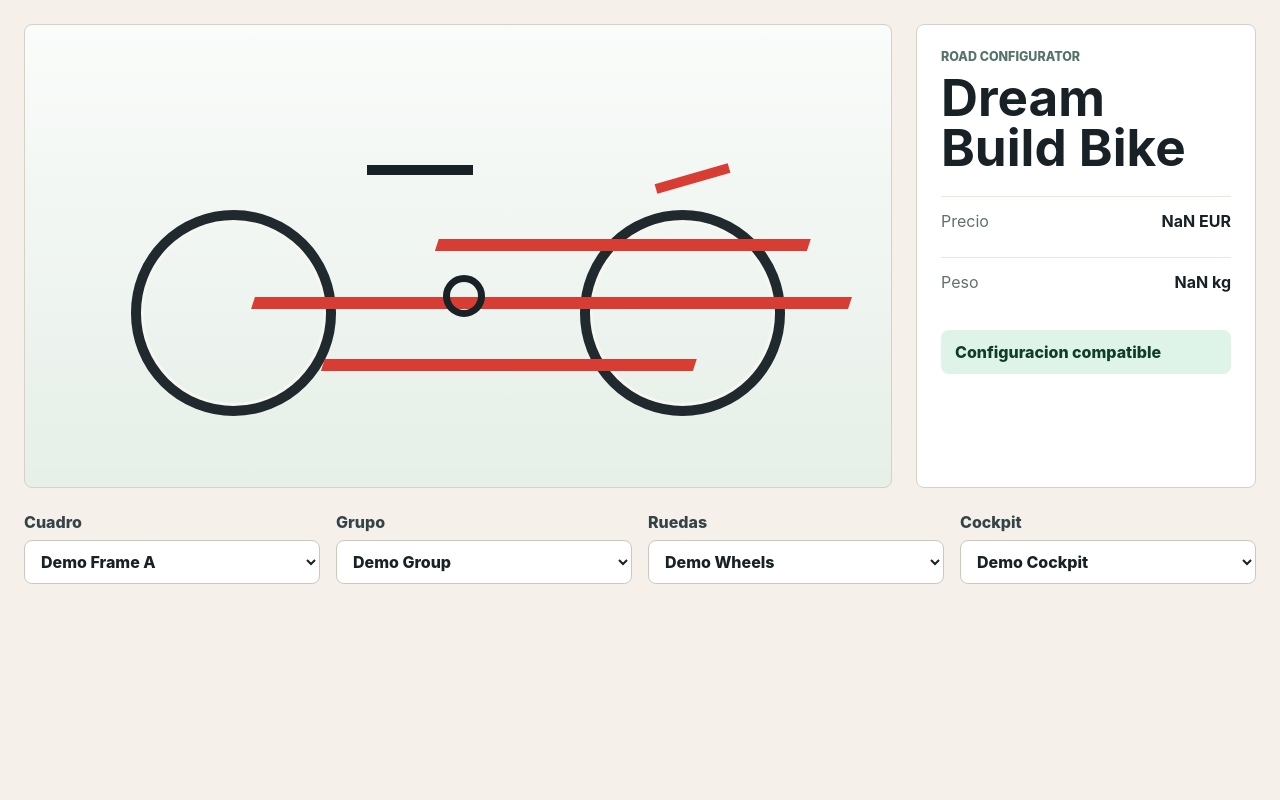
App request behavior › does not show a previous validation as current after a new request fails
The width and height of the screenshot is (1280, 800).
Select "Demo Frame B" in the dropdown labelled "Cuadro". click: (172, 562)
box: x1=24 y1=540 x2=320 y2=584
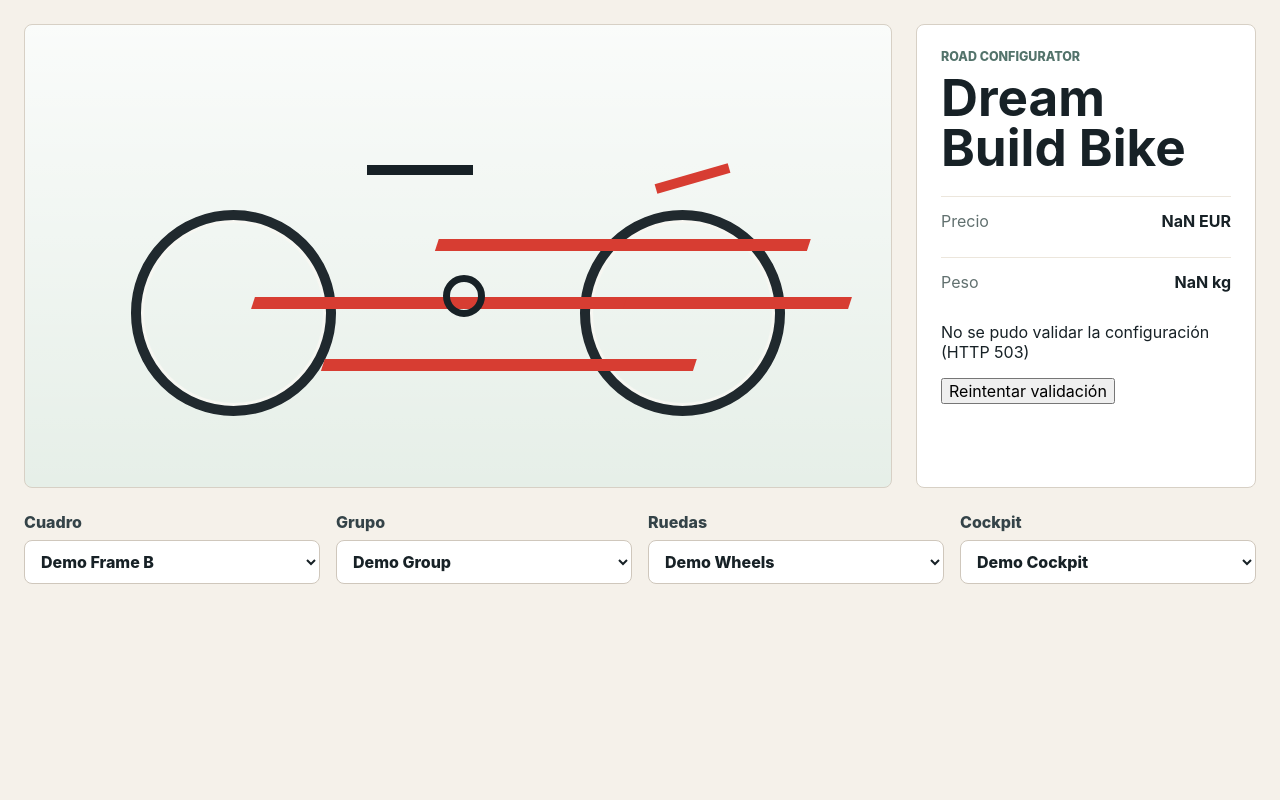
Check: the text "No se pudo validar la configuración (HTTP 503)" is shown, box x1=941 y1=322 x2=1231 y2=362
Check: the text "Configuracion compatible" is gone
